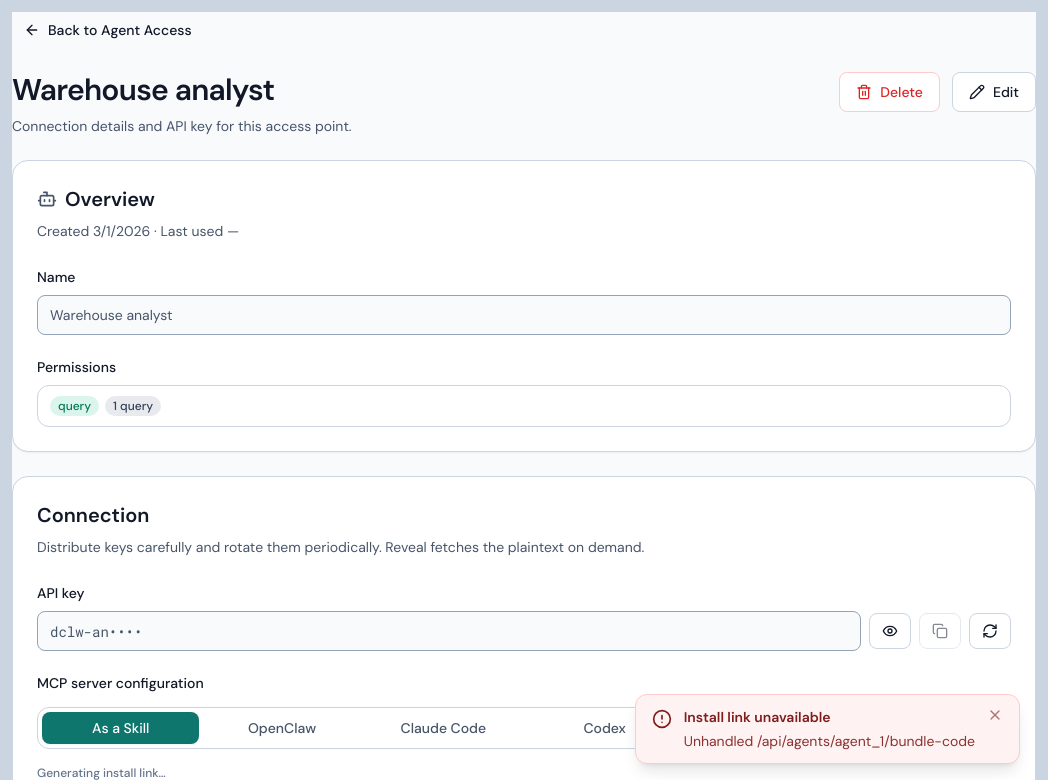
Test: AgentDetailPage › reveals the API key on demand via the reveal-key endpoint
The width and height of the screenshot is (1048, 780).
Expected: the heading "Warehouse analyst" is shown, [12,70,274,109]
Click the button named "reveal key".
click(890, 631)  # box [869,613,911,649]
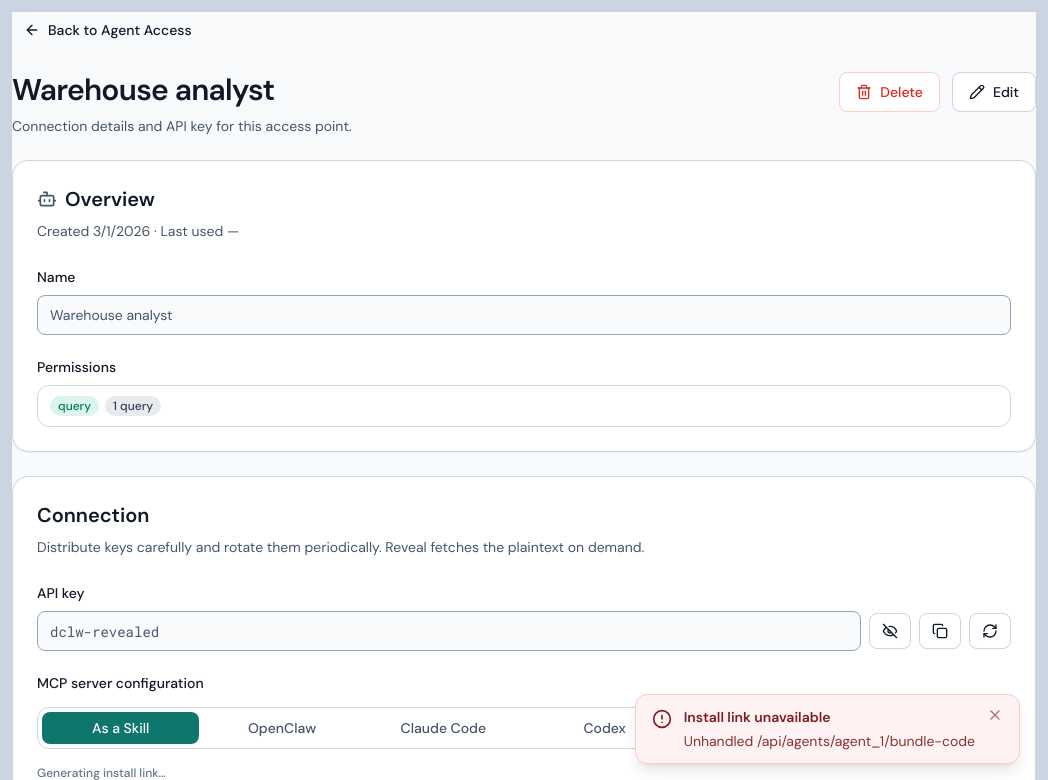
Expected: the 2nd field showing "dclw-revealed" is shown, [37,611,861,651]
